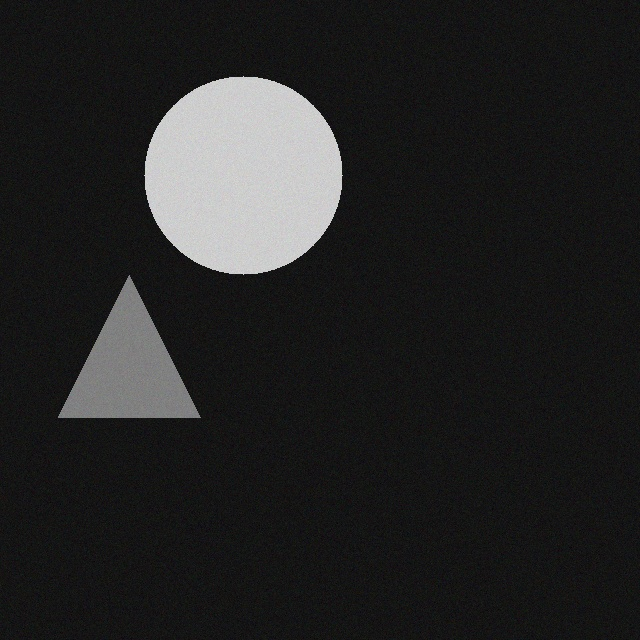circle: (158, 89, 356, 287)
triangle: (72, 288, 214, 430)
